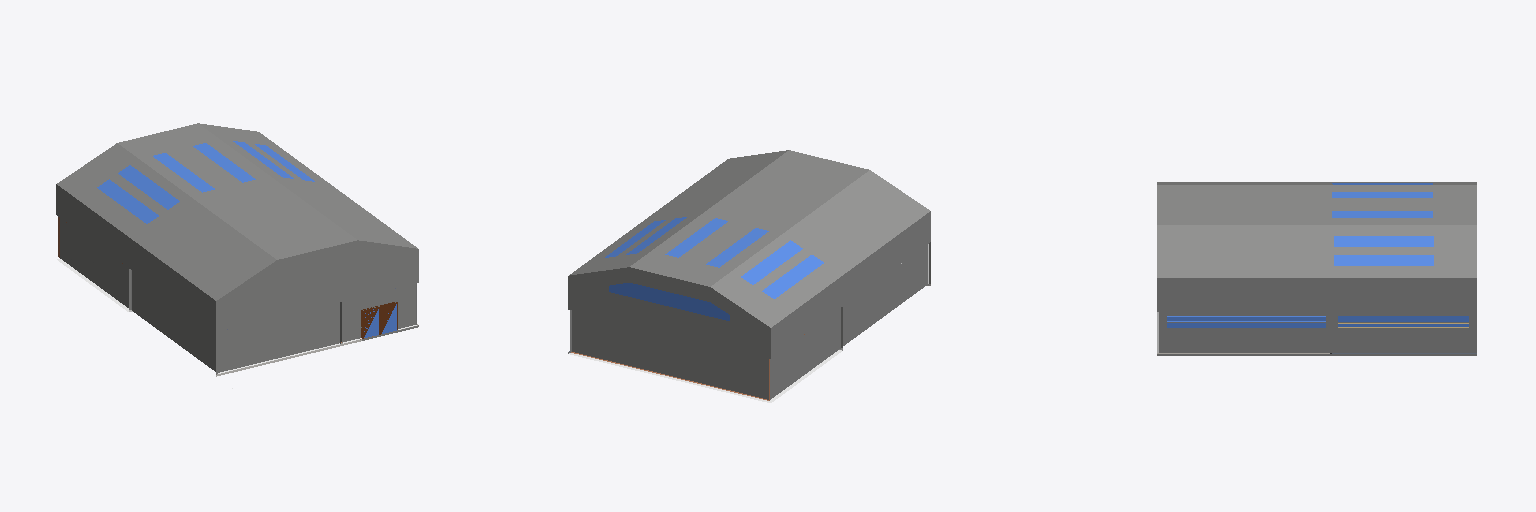
Rendered from museo.obj.
The picture shows the model from 3 angles: view 1: azimuth 30°, elevation 25°; view 2: azimuth 150°, elevation 25°; view 3: azimuth 270°, elevation 25°; orthographic projection.
Parts seen in each view (by area): view 1: Mesh1 Model; view 2: Mesh1 Model; view 3: Mesh1 Model.
Part boxes in pixels (left/top/right/bottom): Mesh1 Model: left=56, top=123, right=418, bottom=376; Mesh1 Model: left=568, top=150, right=930, bottom=402; Mesh1 Model: left=1157, top=182, right=1476, bottom=355.
Bounding box in the file's own units: 20 × 9.61 × 33.64.